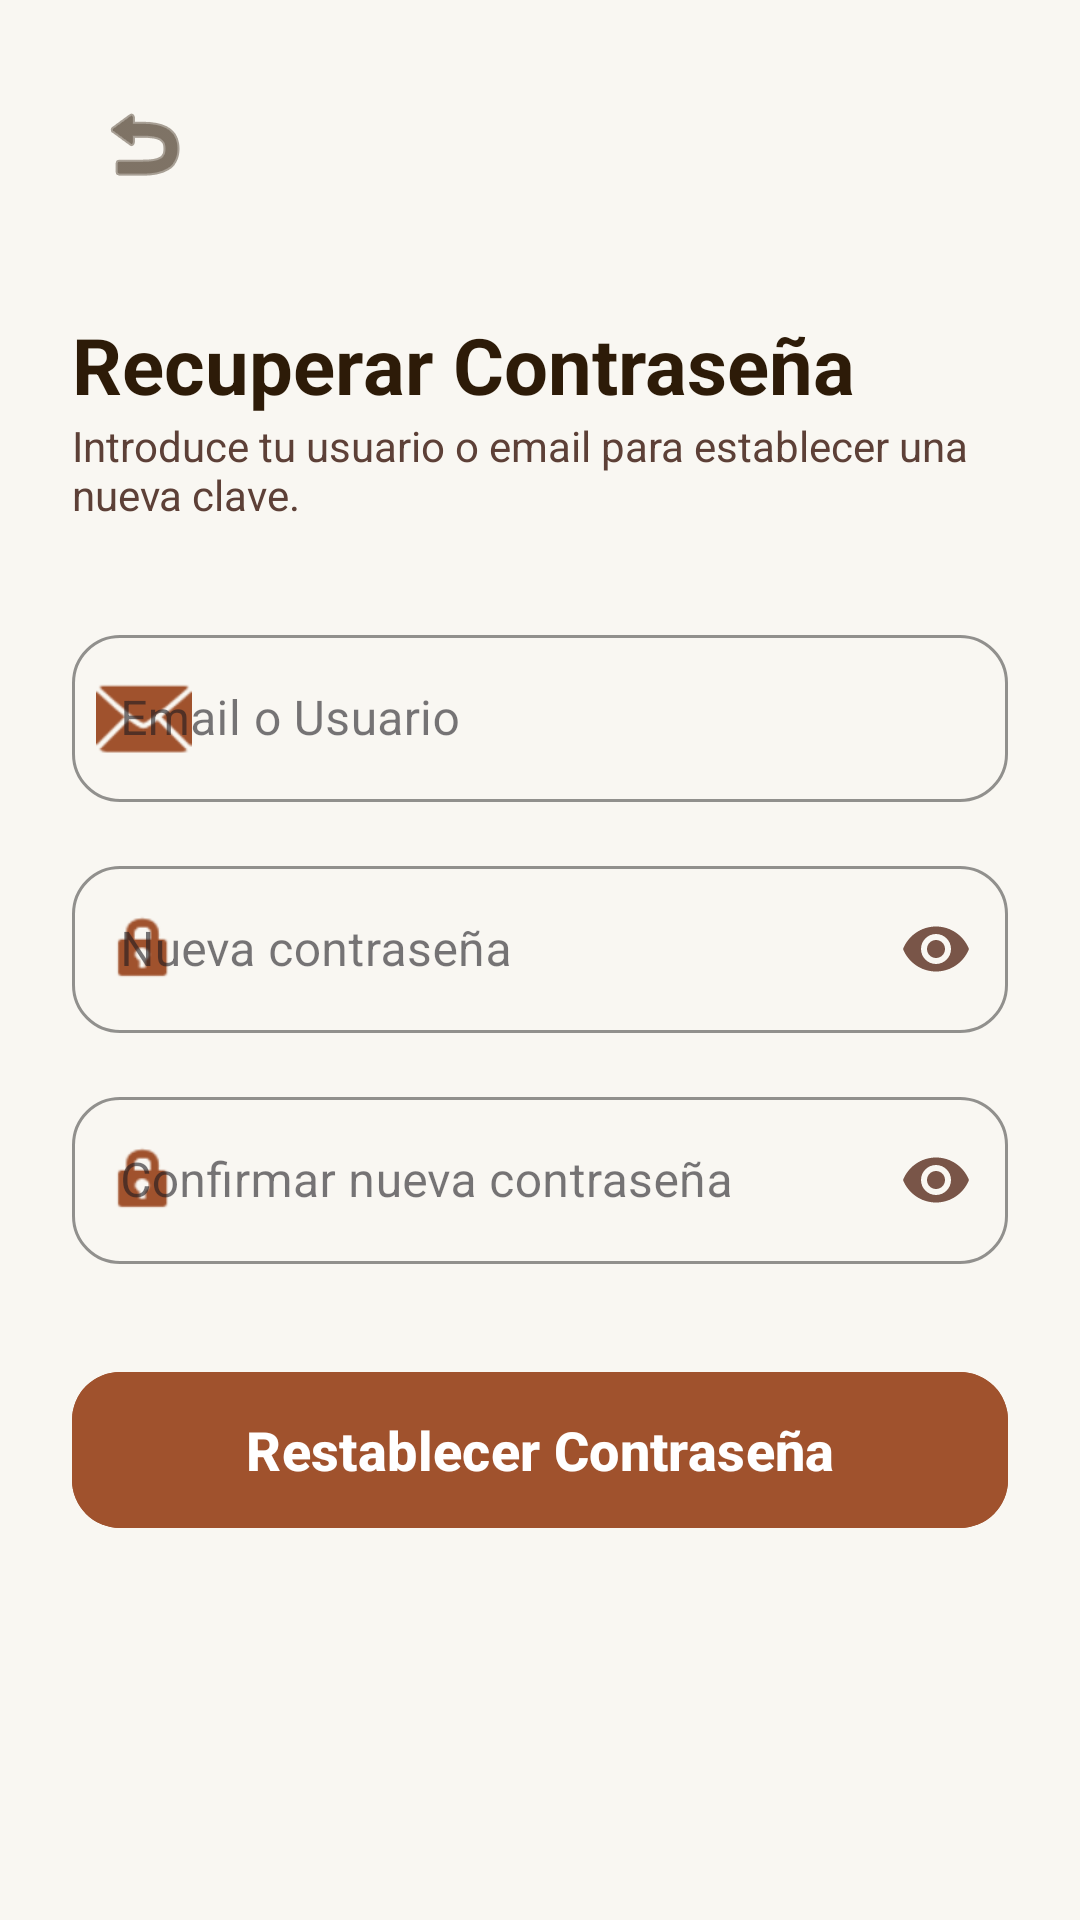

Icons on this 1080px x 1920px Android screen, each with its box as (x1, y1, x2, y2):
Volver: (111, 113, 180, 176)
